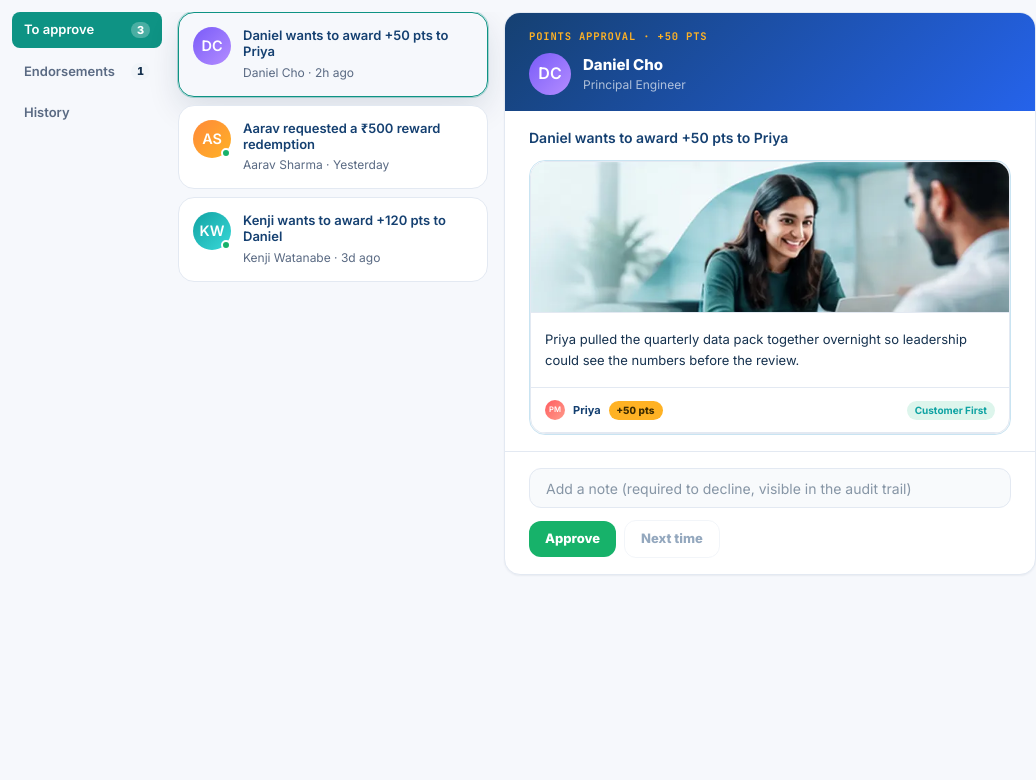
approve list edge items › a decided item shows the audit-trail recorded line in the reading pane
Click the button "Approve" at x=573, y=539, box 529,521 -> 616,556
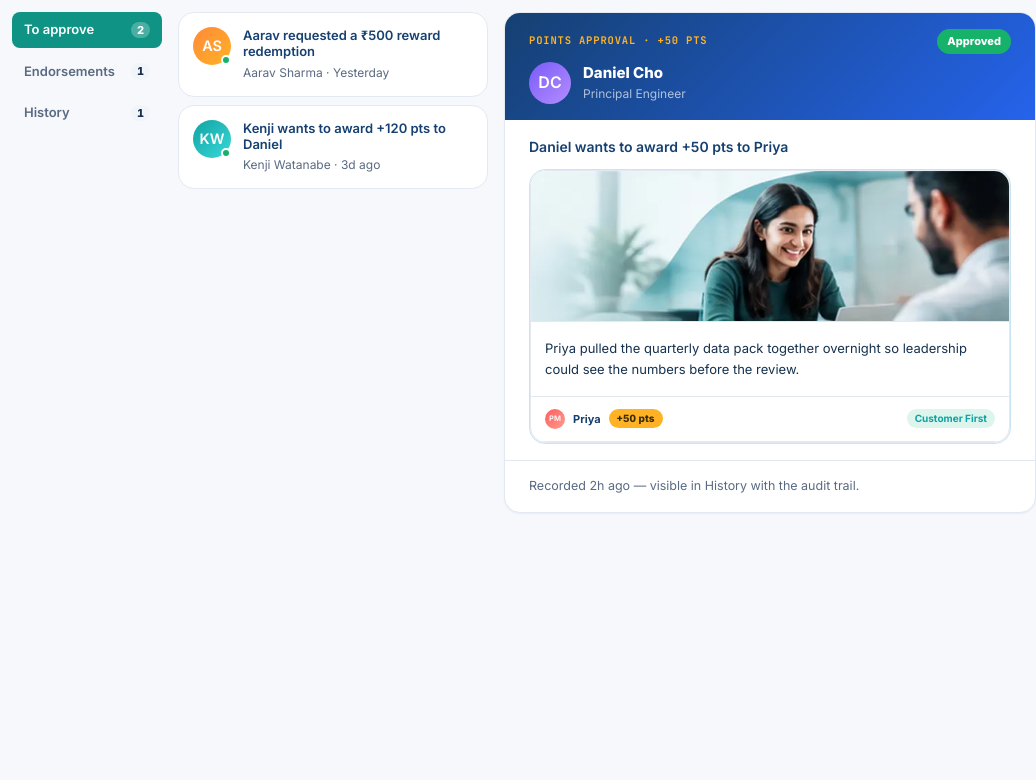
Check: the text "Recorded 2h ago — visible in History with the audit trail." is shown, box 529,478 -> 859,493
